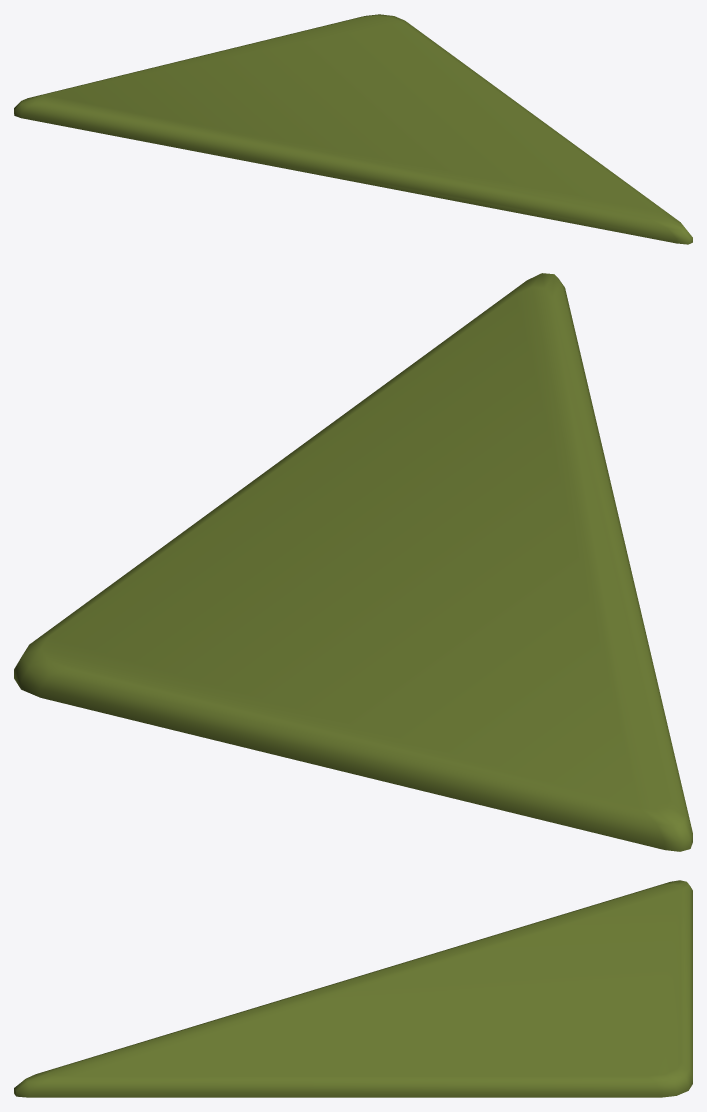
File: Floor (grass behind the house 2).fbx
3 views of the same model, one above another, from view 1: azimuth 30°, elevation 25°; view 2: azimuth 150°, elevation 25°; view 3: azimuth 270°, elevation 25° (orthographic). The views are drawn at different scales.
Visible parts, largest first — view 1: Floor (grass behind the house 2); view 2: Floor (grass behind the house 2); view 3: Floor (grass behind the house 2).
Part boxes in pixels (bbox=[...]): Floor (grass behind the house 2): bbox=[14, 14, 692, 244]; Floor (grass behind the house 2): bbox=[14, 273, 692, 851]; Floor (grass behind the house 2): bbox=[14, 880, 692, 1097].
Bounding box in the file's own units: 12494 × 461 × 17292.
